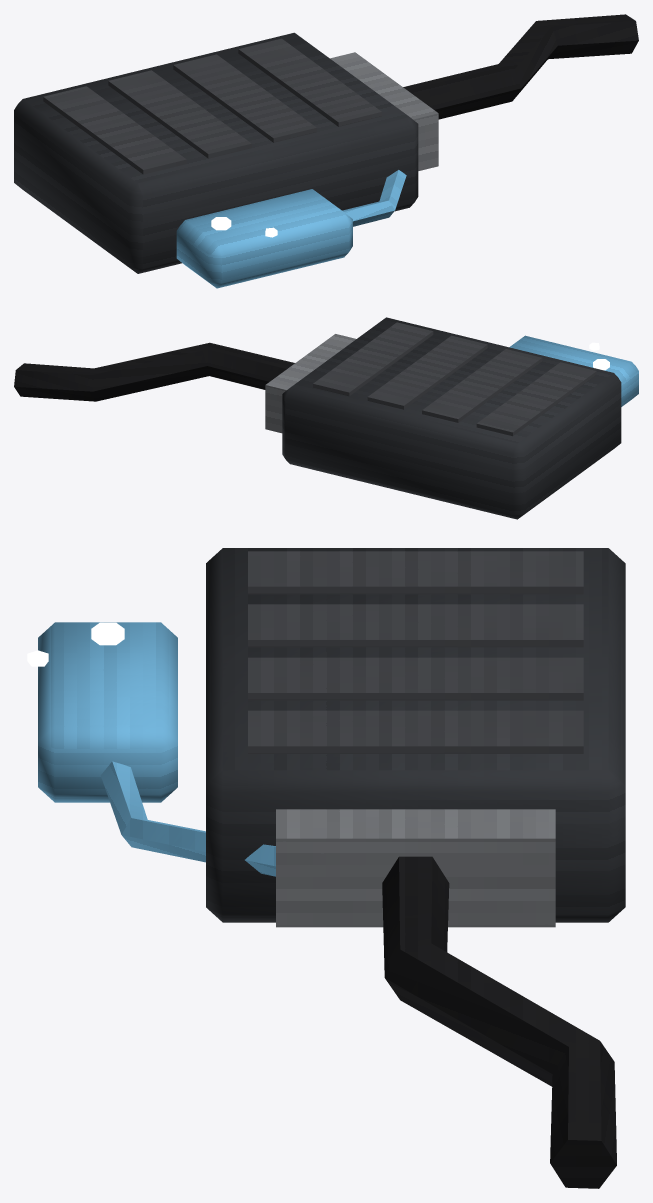
Rendered from ecu_n1.glb.
The picture shows the model from 3 angles, top to bottom: view 1: azimuth 30°, elevation 25°; view 2: azimuth 150°, elevation 25°; view 3: azimuth 270°, elevation 25°; orthographic projection. The views are drawn at different scales.
Parts seen in each view (by area): view 1: ecu_n1; view 2: ecu_n1; view 3: ecu_n1.
Boxes of the visible parts, x1=… form: ecu_n1: x1=14, y1=14, x2=638, y2=288; ecu_n1: x1=14, y1=317, x2=638, y2=519; ecu_n1: x1=27, y1=548, x2=625, y2=1188.
Size of the model in its own units: 0.4217 by 0.0635 by 0.2138.
2 materials, 2 textured.
